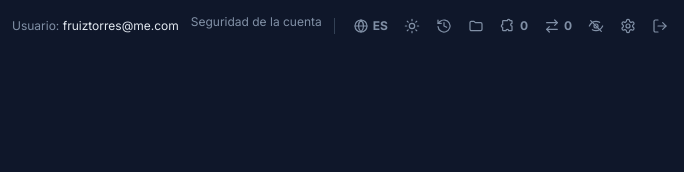
Scenario: BarraUsuario › idioma: muestra la sigla actual y un clic cambia al otro
The width and height of the screenshot is (684, 172).
Click the button with aria-label "Cambiar idioma a English": (370,26) [347,12,394,40]
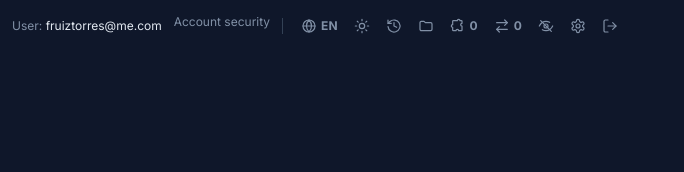
Now the button with aria-label "Switch language to Español" reads "EN", box [295,12,344,40]
